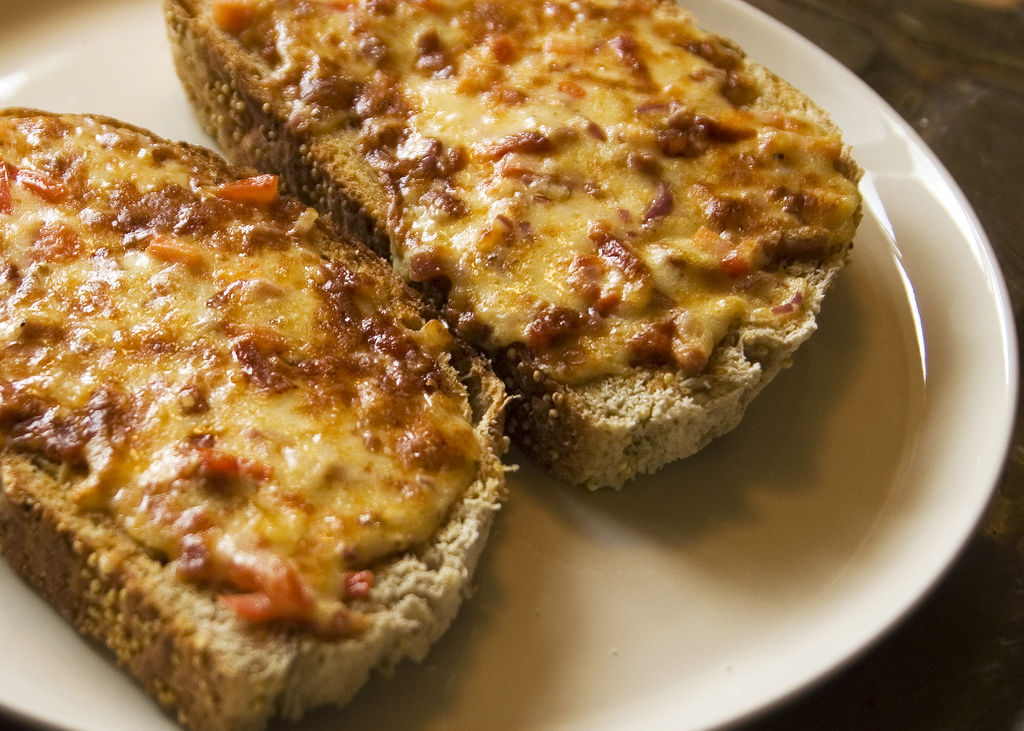slice of bread: (201, 13, 788, 467), (4, 119, 442, 678)
